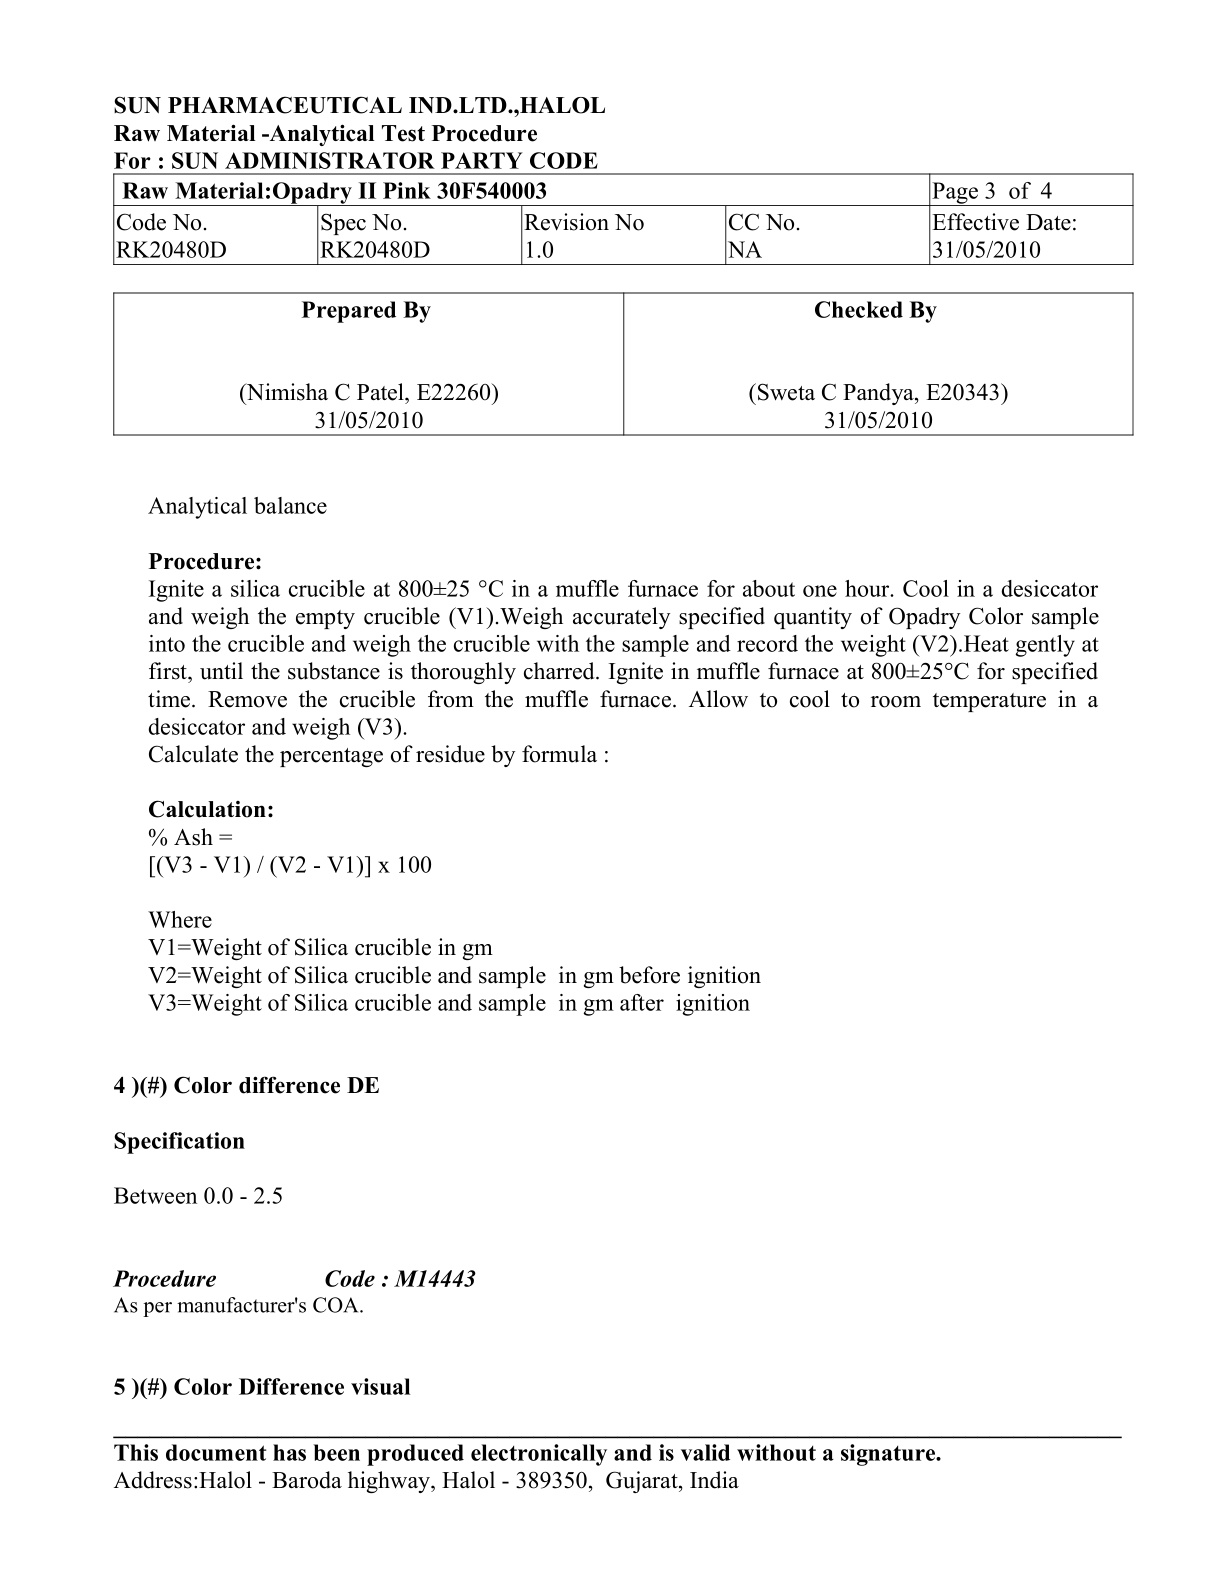full_lined: (112, 291, 1134, 438)
merged_cells: (112, 171, 1135, 266)
